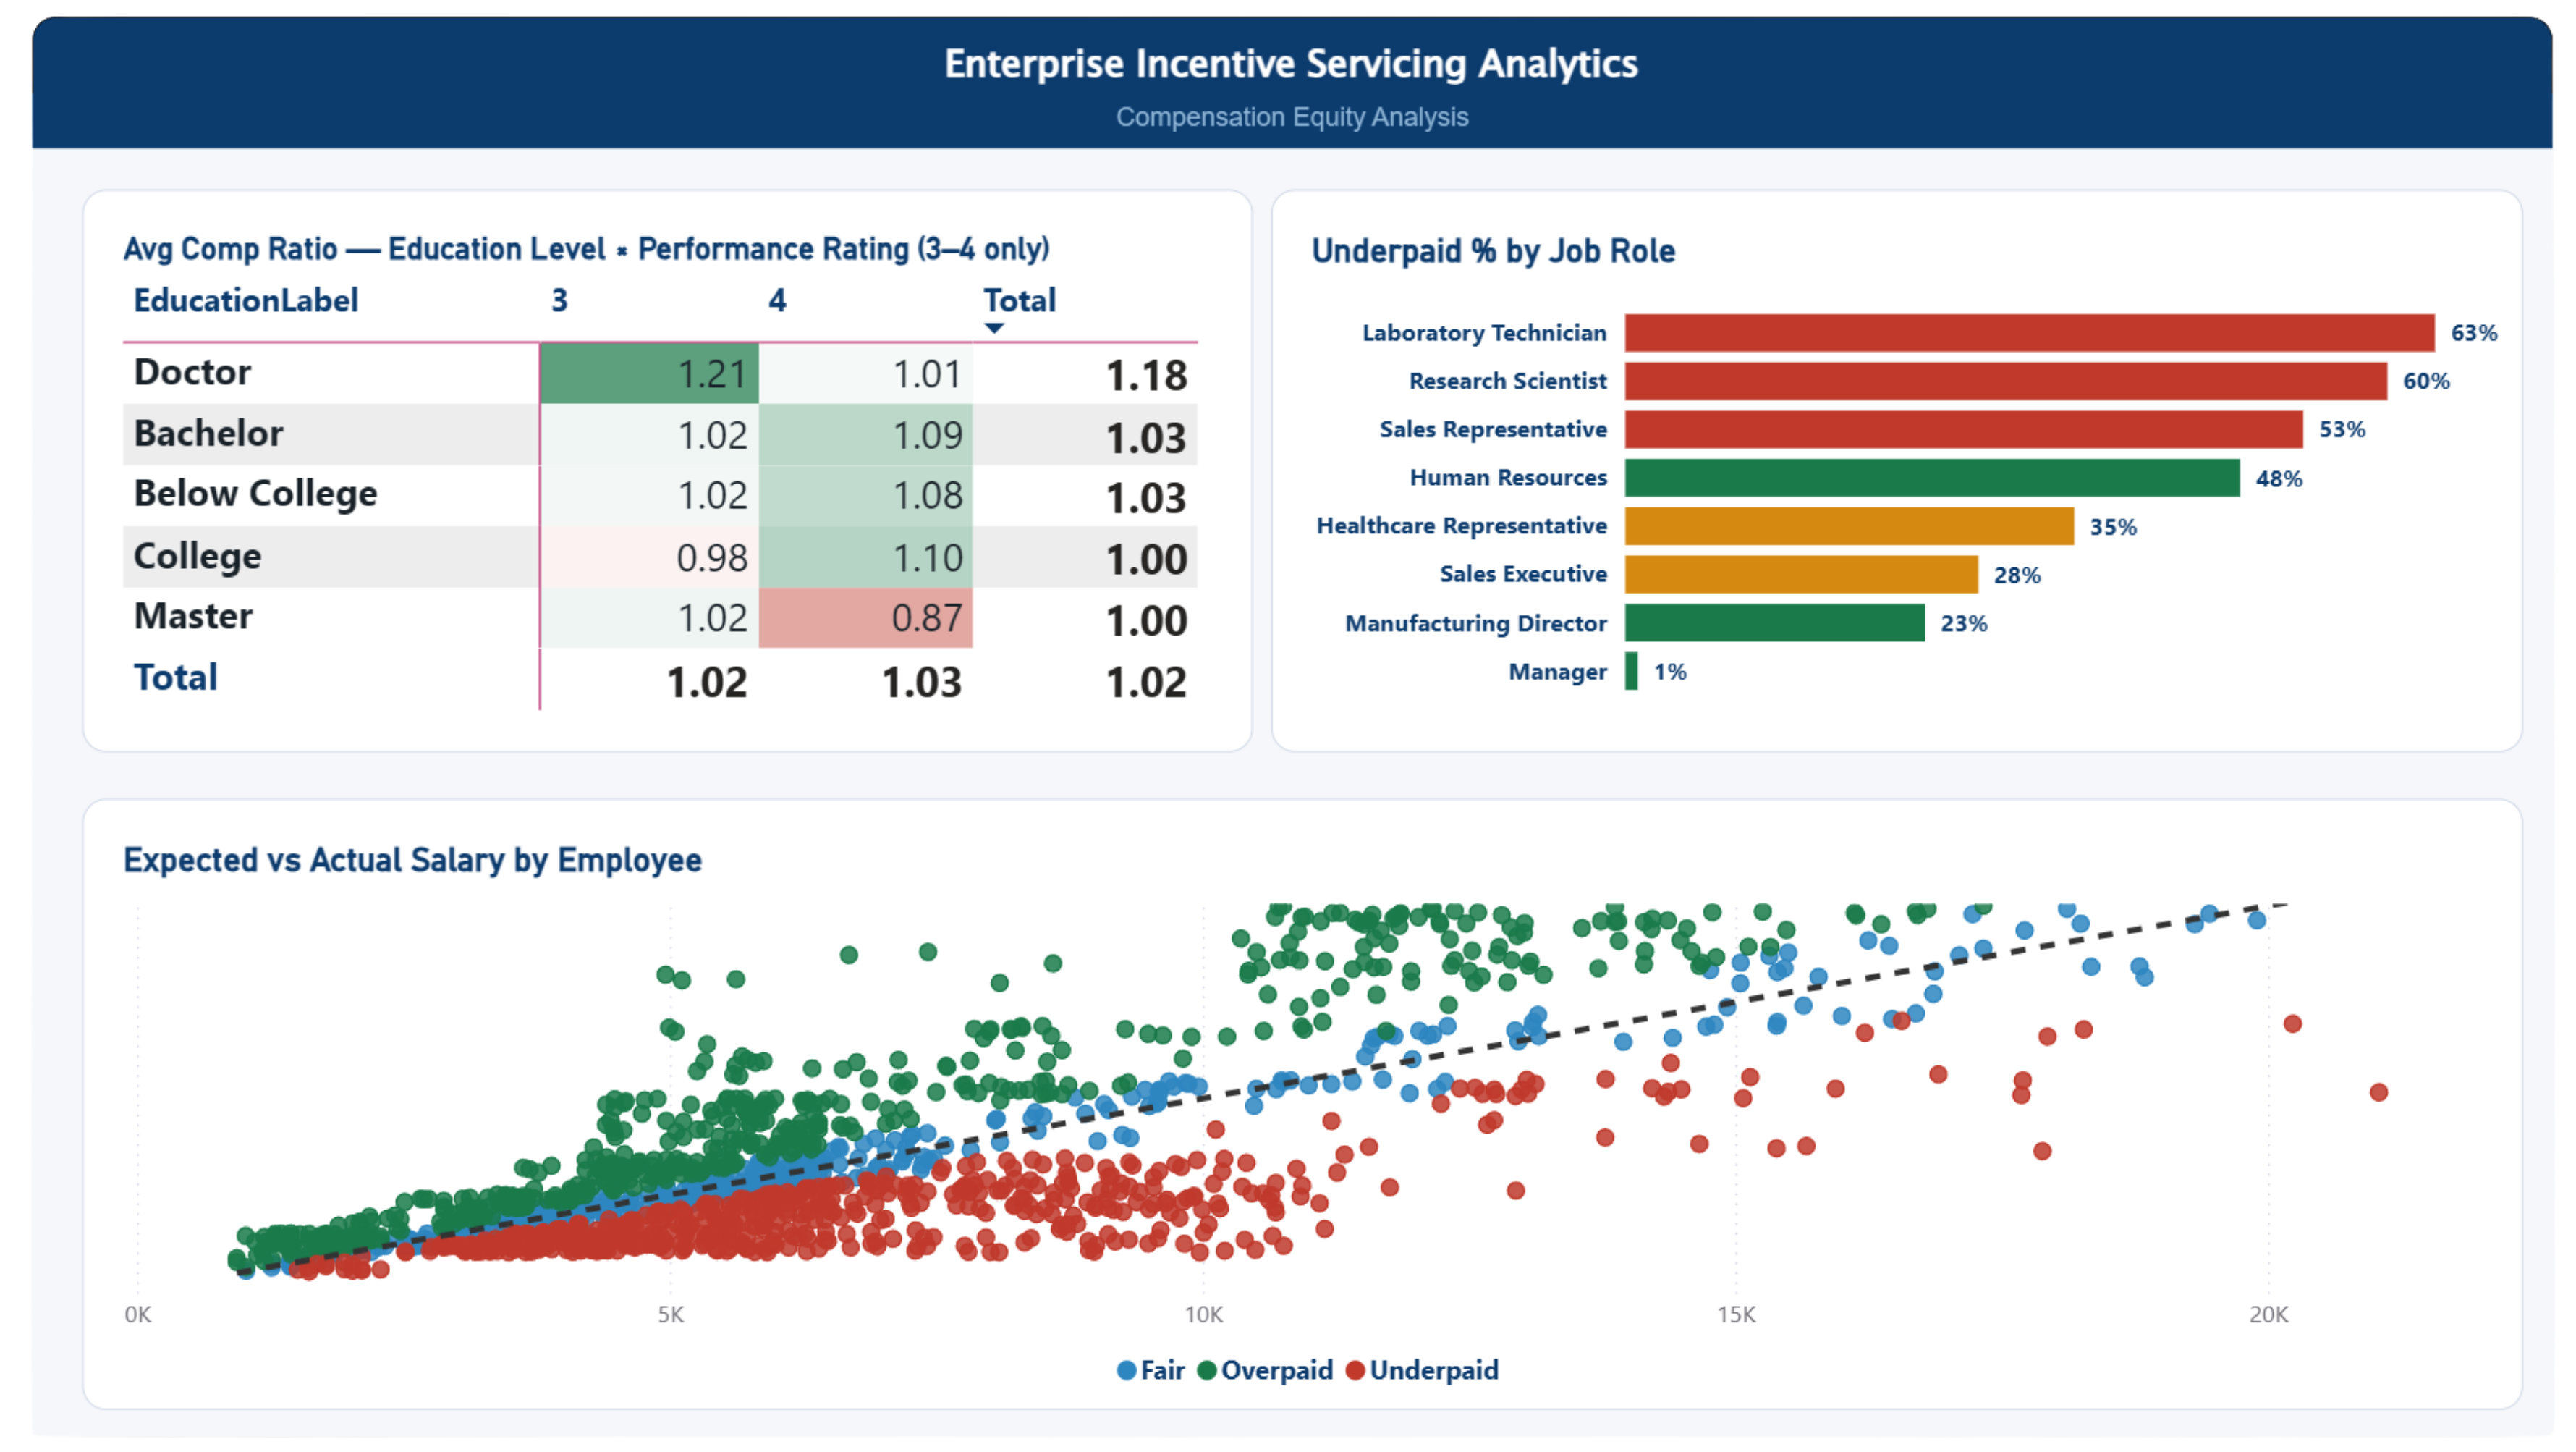

The dashboard page shown, as its layout file describes it:
{"tool":"powerbi","page":{"name":"Compensation Equity Analysis","canvas":[1280,720],"ordinal":1},"visuals":[{"type":"textbox","box":[0,0,1279.6,53],"z":0},{"type":"textbox","box":[0,38.5,1279.6,28.1],"z":1000},{"type":"clusteredBarChart","title":"Underpaid % by Job Role","fields":{"Category":["Fact_Employee.JobRole"],"Y":["_Measures.Underpaid % by Role"]},"box":[628.8,87.5,635,285],"z":2000},{"type":"pivotTable","title":"Avg Comp Ratio — Education Level × Performance Rating (3–4 only)","fields":{"Columns":["Fact_Employee.PerformanceRating"],"Rows":["Dim_Education. EducationLabel"],"Values":["_Measures.Avg Comp Ratio"]},"box":[25,87.5,593.8,285],"z":3000},{"type":"scatterChart","title":"Expected vs Actual Salary by Employee","fields":{"X":["Sum(Fact_Employee.ExpectedSalary)"],"Y":["Sum(Fact_Employee.MonthlyIncome)"],"Series":["Fact_Employee.CompSegment"],"Category":["Fact_Employee.EmployeeNumber"]},"box":[25,396.2,1238.8,310],"z":4000}]}

Visuals, with their boxes in screenshot pixels (x1, y1, x2, y2), scaled from the page's 1280x720 canvas onto the 2576x1452 screenshot:
textbox: Rect(0, 0, 2575, 107)
textbox: Rect(0, 77, 2575, 135)
"Underpaid % by Job Role" clusteredBarChart: Rect(1266, 177, 2543, 751)
"Avg Comp Ratio — Education Level × Performance Rating (3–4 only)" pivotTable: Rect(51, 177, 1245, 751)
"Expected vs Actual Salary by Employee" scatterChart: Rect(51, 799, 2543, 1424)
